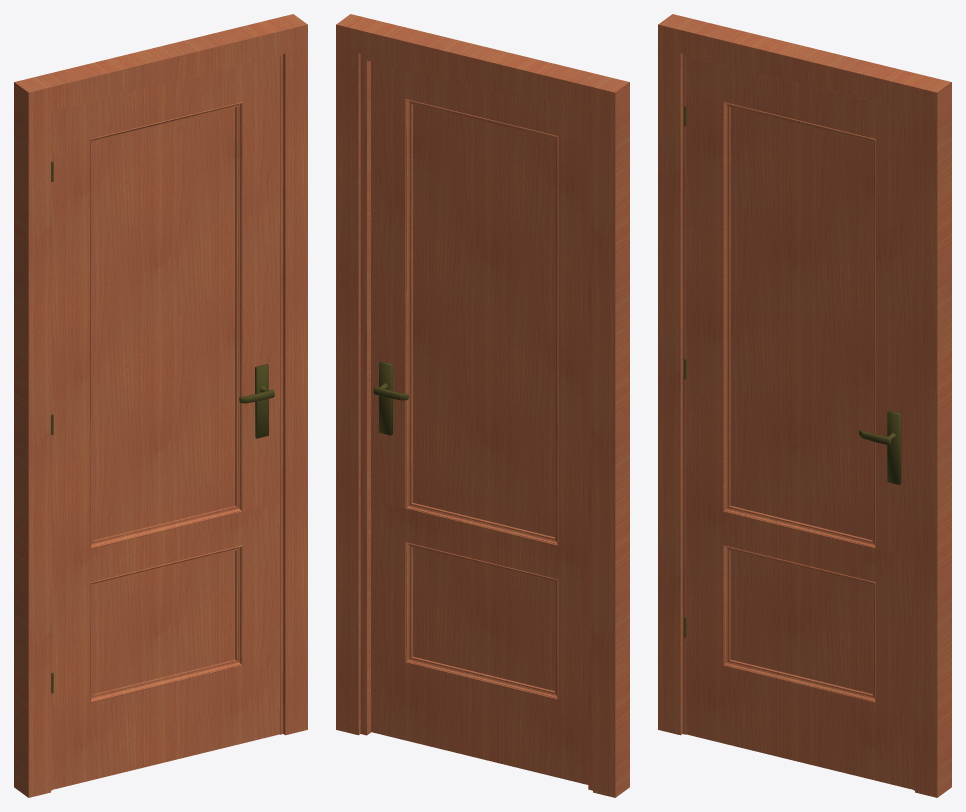
The model's file is puerta.obj.
3 views of the same model, side by side, from view 1: azimuth 30°, elevation 25°; view 2: azimuth 150°, elevation 25°; view 3: azimuth 330°, elevation 25° (orthographic).
Visible parts, largest first — view 1: sweethome3d_opening_on_hinge_1_door_sweethome3d_opening_on_hinge, marc_Cube, sweethome3d_opening_on_hinge_1_maneta_puerta; view 2: sweethome3d_opening_on_hinge_1_door_sweethome3d_opening_on_hinge, marc_Cube, sweethome3d_opening_on_hinge_1_maneta_puerta; view 3: sweethome3d_opening_on_hinge_1_door_sweethome3d_opening_on_hinge, marc_Cube, sweethome3d_opening_on_hinge_1_maneta_puerta.
Part boxes in pixels (x1=…): sweethome3d_opening_on_hinge_1_door_sweethome3d_opening_on_hinge: x1=52, y1=56, x2=279, y2=789; marc_Cube: x1=14, y1=14, x2=307, y2=797; sweethome3d_opening_on_hinge_1_maneta_puerta: x1=239, y1=364, x2=274, y2=438; sweethome3d_opening_on_hinge_1_door_sweethome3d_opening_on_hinge: x1=371, y1=61, x2=588, y2=784; marc_Cube: x1=336, y1=14, x2=629, y2=797; sweethome3d_opening_on_hinge_1_maneta_puerta: x1=373, y1=361, x2=408, y2=435; sweethome3d_opening_on_hinge_1_door_sweethome3d_opening_on_hinge: x1=686, y1=56, x2=913, y2=789; marc_Cube: x1=658, y1=14, x2=951, y2=797; sweethome3d_opening_on_hinge_1_maneta_puerta: x1=859, y1=410, x2=901, y2=484.
Bounding box in the file's own units: 87.38 × 211 × 13.81.
4 materials, 3 textured.
